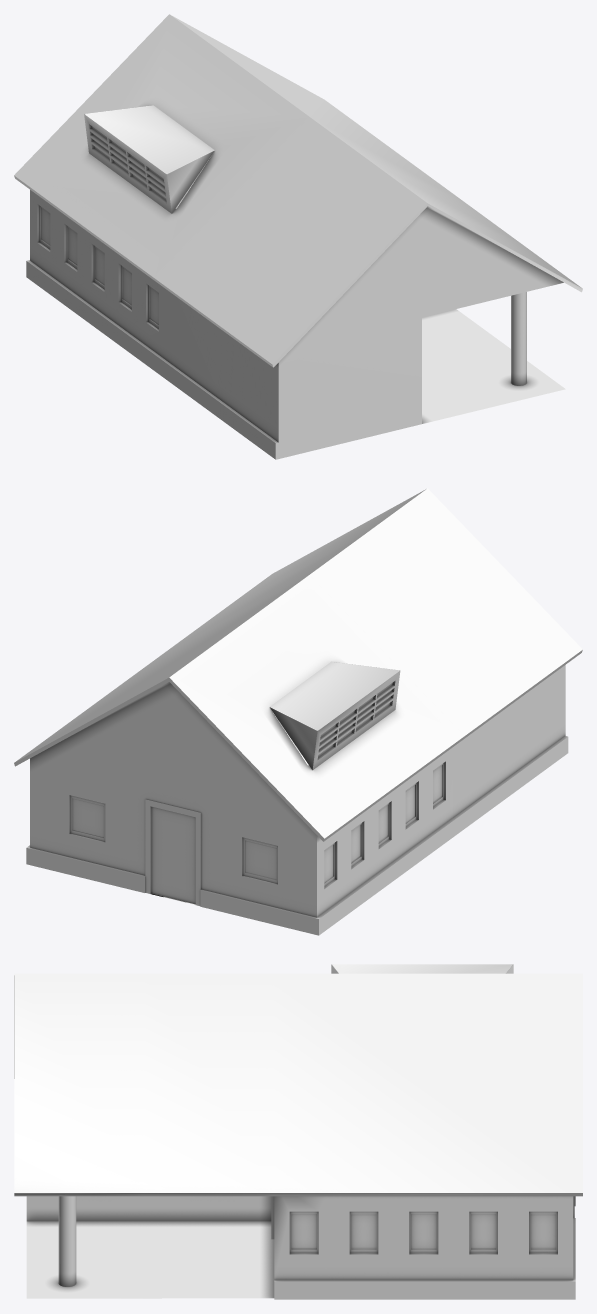
The model's file is VeterinaryDep.fbx.
3 views of the same model, one above another, from view 1: azimuth 30°, elevation 25°; view 2: azimuth 150°, elevation 25°; view 3: azimuth 270°, elevation 25° (orthographic). The views are drawn at different scales.
Parts seen in each view (by area): view 1: Ветблок; view 2: Ветблок; view 3: Ветблок.
Part boxes in pixels (x1,y1,x2,y2): Ветблок: [14, 14, 582, 459]; Ветблок: [14, 488, 582, 935]; Ветблок: [14, 964, 582, 1299].
Bounding box in the file's own units: 0.7175 × 0.5001 × 1.03.
